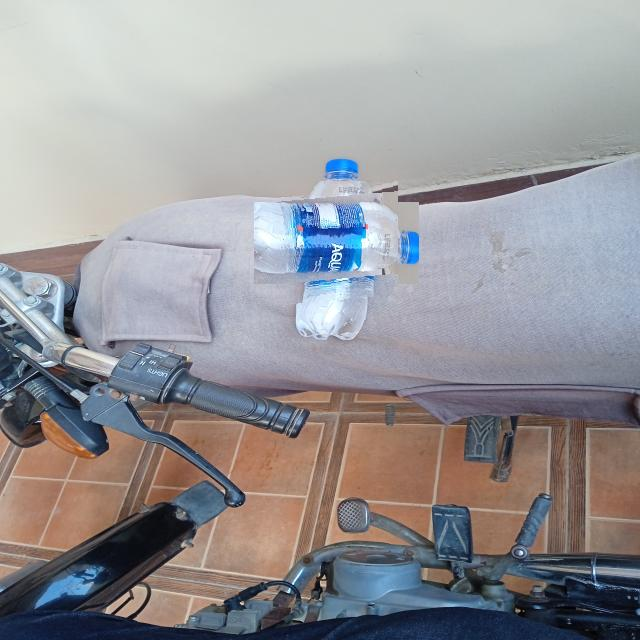Plastic: (274, 181, 398, 305)
